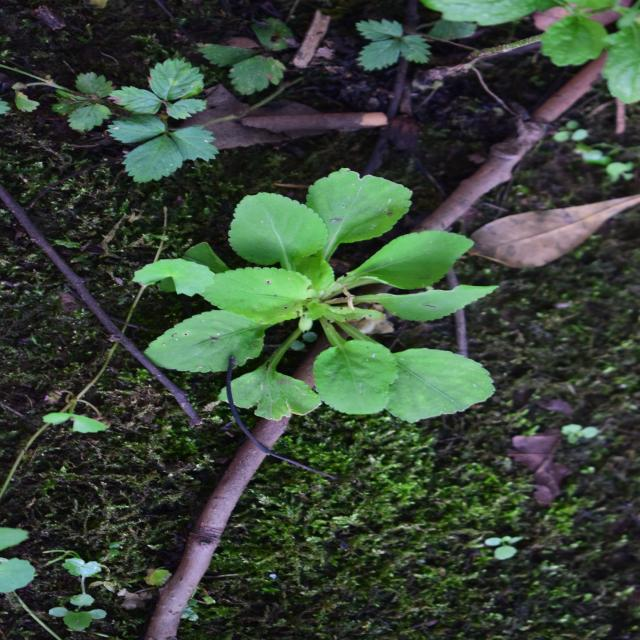Viola: (188, 158, 438, 484)
